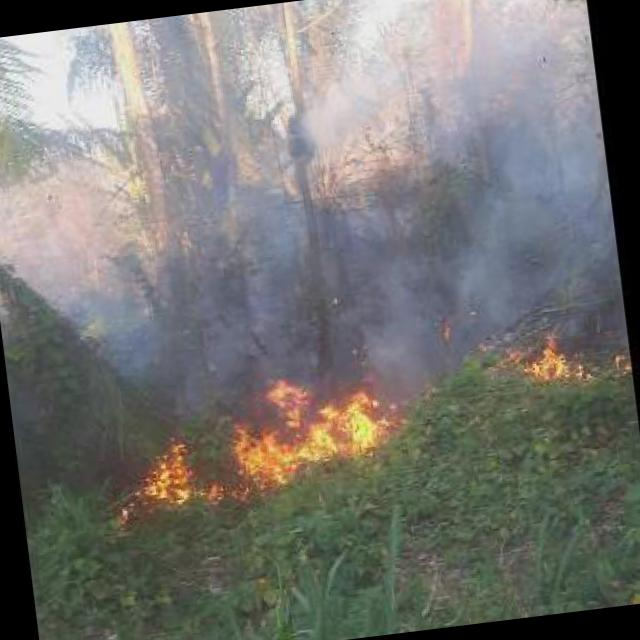fire: (100, 359, 408, 526), (516, 321, 614, 388)
smoke: (299, 0, 622, 361)
